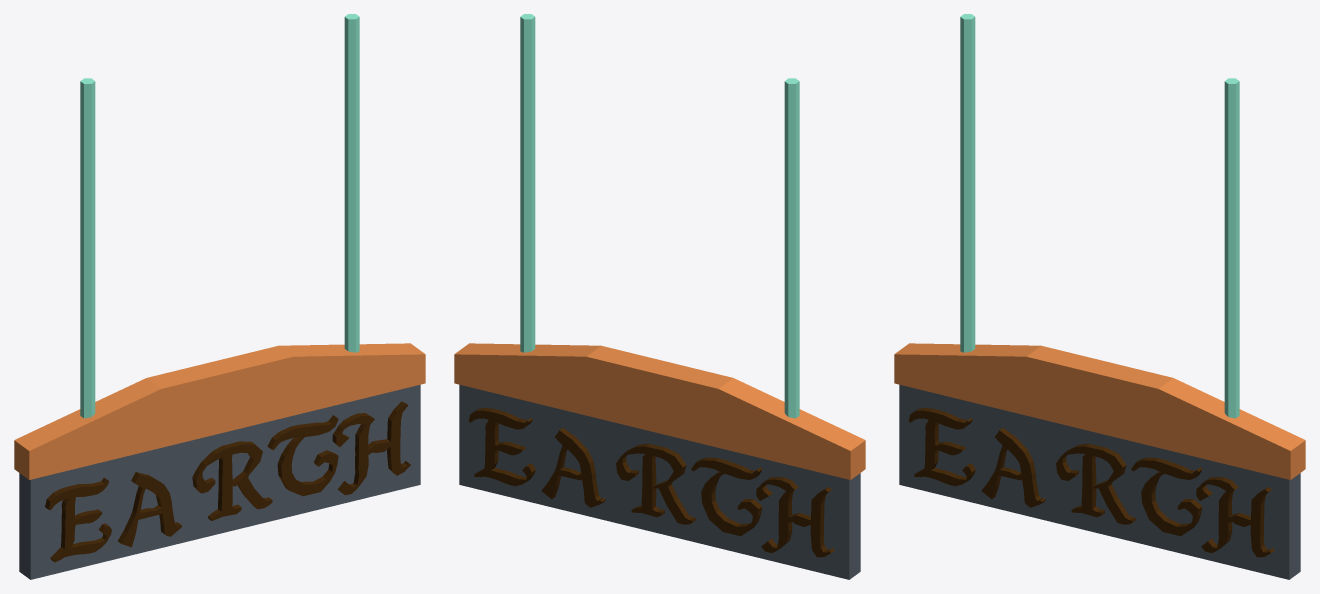
File: StoreSigns.fbx_Earth.fbx
The picture shows the model from 3 angles, left to right: view 1: azimuth 30°, elevation 25°; view 2: azimuth 150°, elevation 25°; view 3: azimuth 330°, elevation 25°; orthographic projection.
Parts seen in each view (by area): view 1: Earth; view 2: Earth; view 3: Earth.
Boxes of the visible parts, left/top/right/bottom form: Earth: left=14, top=14, right=425, bottom=579; Earth: left=454, top=14, right=865, bottom=579; Earth: left=894, top=14, right=1305, bottom=579.
Bounding box in the file's own units: 53.62 × 610 × 705.
